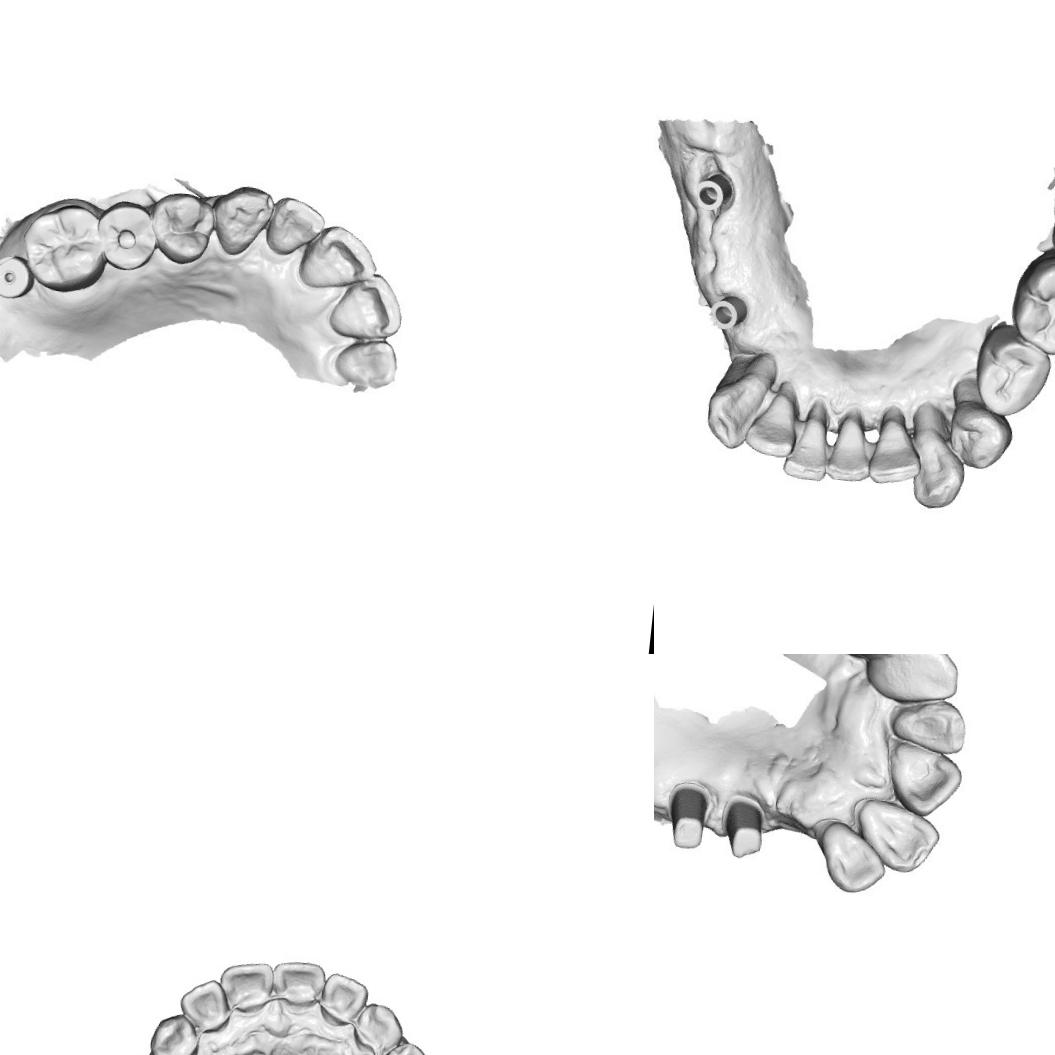abutment: (660, 775, 713, 853), (716, 784, 771, 858)
canine: (902, 404, 973, 510), (707, 351, 772, 448), (868, 654, 954, 702), (216, 186, 274, 254), (349, 999, 407, 1055), (146, 1010, 203, 1055)
implant: (708, 283, 754, 336), (690, 168, 736, 219), (0, 248, 35, 304)
incisor: (850, 795, 940, 873), (327, 273, 405, 348), (810, 814, 884, 892), (886, 740, 961, 811), (865, 407, 928, 490), (780, 398, 840, 485), (302, 226, 376, 294), (744, 379, 801, 463), (887, 694, 969, 752), (826, 410, 876, 488), (340, 338, 403, 395), (266, 196, 322, 260), (268, 956, 328, 1014), (176, 973, 233, 1034), (317, 970, 370, 1032), (216, 958, 274, 1014)
molar: (18, 202, 106, 291), (1010, 252, 1055, 356)
premolar: (971, 322, 1055, 422), (944, 395, 1014, 470), (98, 201, 160, 272), (156, 191, 214, 255), (367, 1037, 433, 1055)
